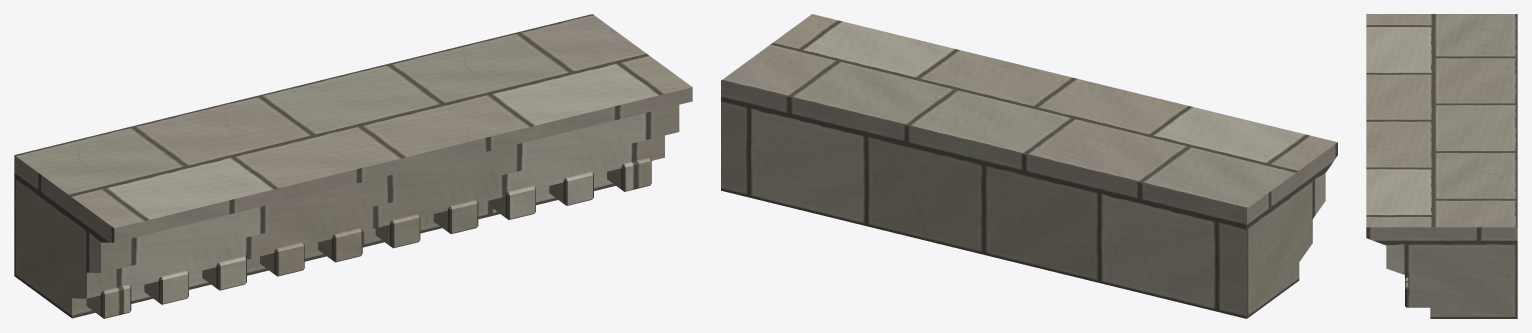
Rendered from Furn_Cornice2.fbx.
3 views of the same model, side by side, from view 1: azimuth 30°, elevation 25°; view 2: azimuth 150°, elevation 25°; view 3: azimuth 270°, elevation 25° (orthographic). The views are drawn at different scales.
Visible parts, largest first — view 1: Furn_Cornice2; view 2: Furn_Cornice2; view 3: Furn_Cornice2.
Boxes of the visible parts, x1,y1,x2,y2 form: Furn_Cornice2: [14, 14, 692, 318]; Furn_Cornice2: [721, 14, 1337, 318]; Furn_Cornice2: [1366, 14, 1517, 318].
Size of the model in its own units: 3 by 0.6 by 0.9.
